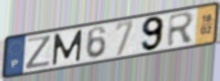6: (85, 25, 108, 61)
7: (114, 19, 137, 57)
9: (140, 15, 166, 52)
M: (52, 28, 85, 67)
R: (166, 10, 196, 48)
Z: (24, 34, 53, 71)
